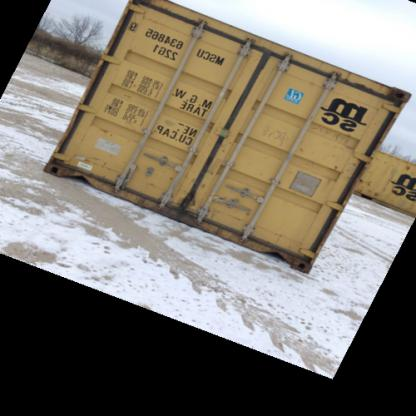Damage: (244, 233, 314, 276), (46, 152, 110, 194), (116, 182, 172, 210), (202, 214, 245, 244), (168, 184, 200, 219)
